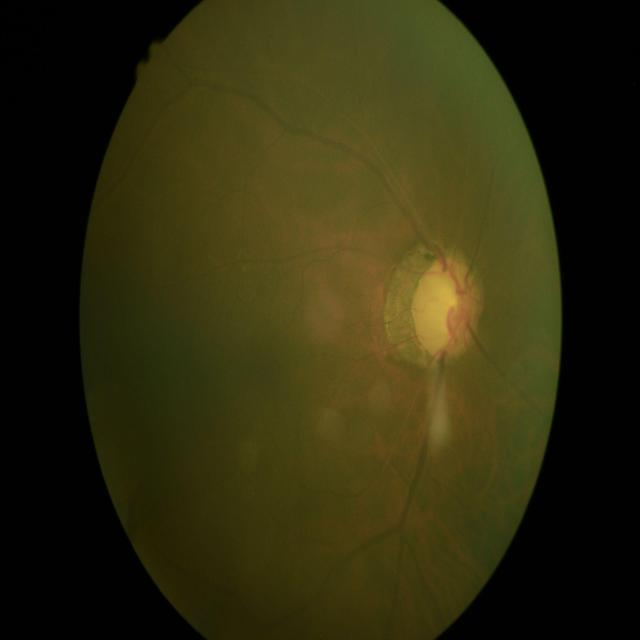cup: (421, 269, 474, 350)
disk: (411, 254, 482, 358)
